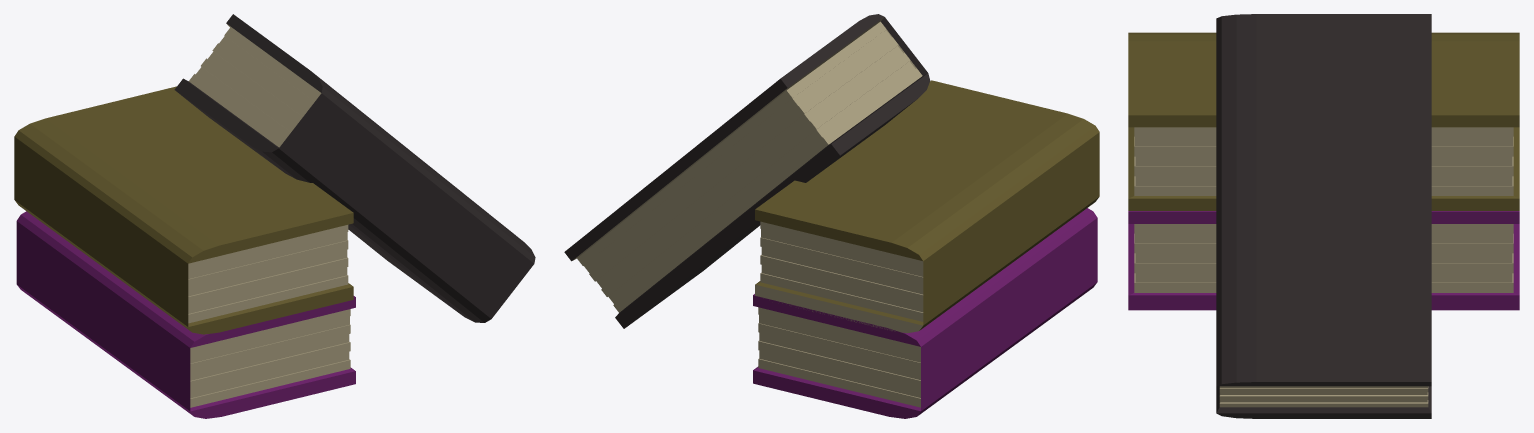
Rendered from bookstriangle.fbx.
The picture shows the model from 3 angles, left to right: view 1: azimuth 30°, elevation 25°; view 2: azimuth 150°, elevation 25°; view 3: azimuth 270°, elevation 25°; orthographic projection. The views are drawn at different scales.
Parts seen in each view (by area): view 1: Cube.001; view 2: Cube.001; view 3: Cube.001.
Part boxes in pixels (x1,y1,x2,y2): Cube.001: (14,14,535,418); Cube.001: (564,14,1099,418); Cube.001: (1128,14,1519,418).
Size of the model in its own units: 261 by 180 by 200.
